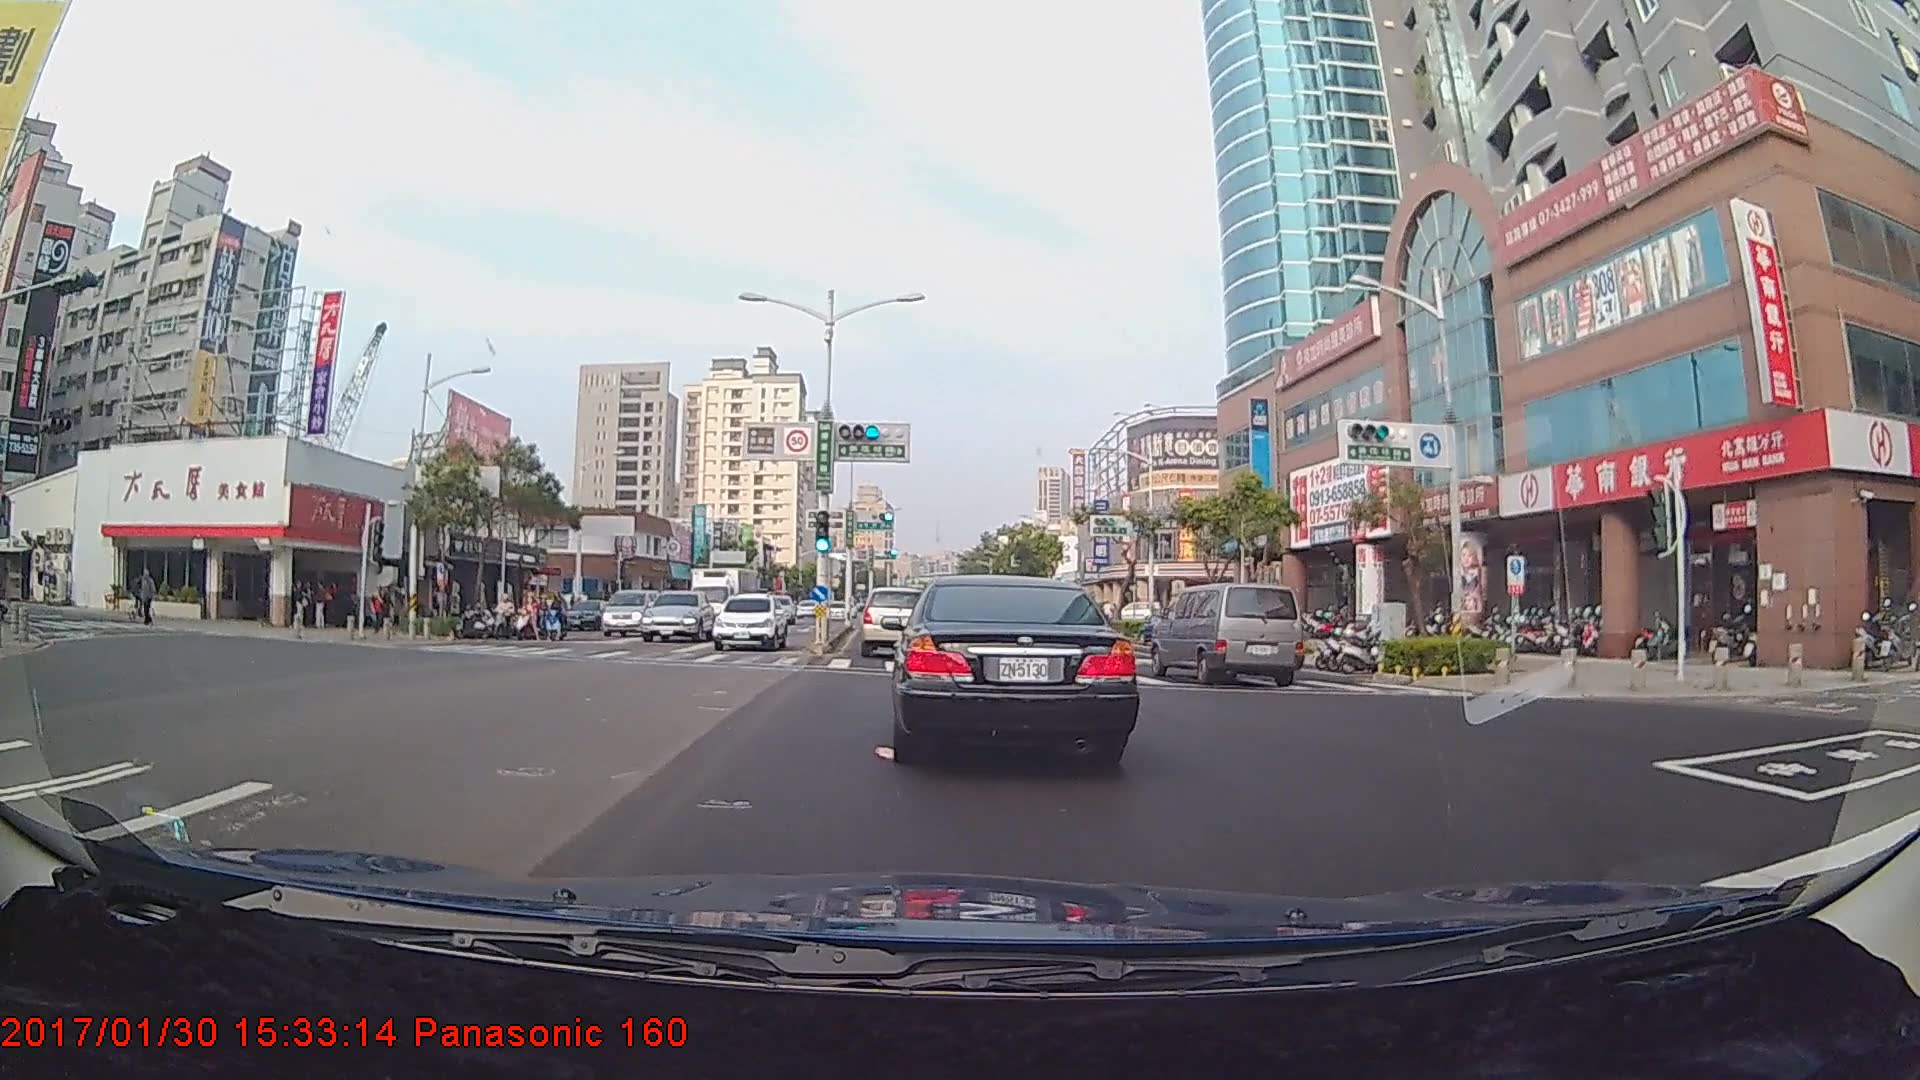pedestrian: (135, 569, 160, 627), (290, 578, 312, 633), (311, 580, 331, 631)
vehicle: (889, 571, 1132, 763), (1152, 580, 1304, 688), (691, 562, 767, 636), (859, 583, 933, 656), (712, 593, 788, 651), (640, 589, 715, 643), (596, 585, 659, 638)
